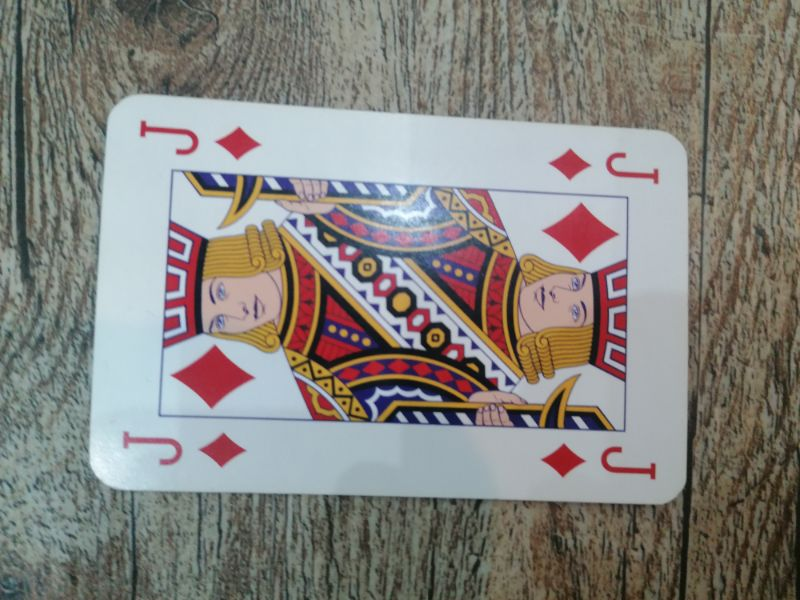Jd: (129, 114, 268, 166), (112, 425, 251, 476), (537, 434, 668, 485), (545, 141, 665, 191)
